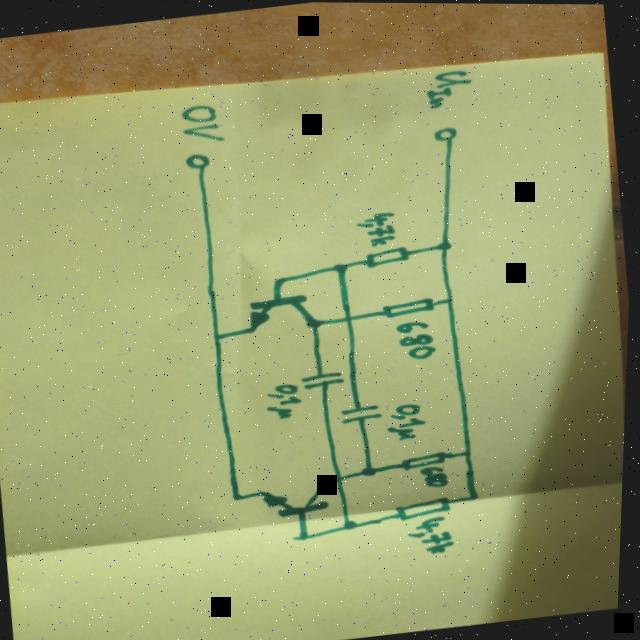capacitor: (303, 366, 350, 390), (342, 400, 388, 423)
crossover: (343, 311, 359, 323), (337, 472, 350, 483)
junction: (333, 258, 353, 273), (362, 462, 383, 476), (437, 238, 457, 250), (307, 315, 327, 327), (296, 529, 315, 541), (347, 517, 364, 529), (273, 273, 289, 285), (213, 328, 226, 341), (233, 490, 249, 500), (472, 489, 485, 499), (465, 446, 479, 455), (446, 294, 458, 303)
resistor: (399, 493, 458, 520), (382, 293, 442, 318), (366, 242, 415, 267), (403, 447, 454, 469)
terminal: (186, 150, 214, 170), (433, 123, 461, 142)
text: (423, 64, 477, 108), (409, 511, 461, 555), (180, 99, 229, 144), (397, 314, 443, 361), (386, 399, 433, 440), (356, 208, 402, 248), (266, 379, 310, 419), (422, 462, 455, 487)
transistor: (248, 290, 320, 331), (264, 478, 335, 518)
